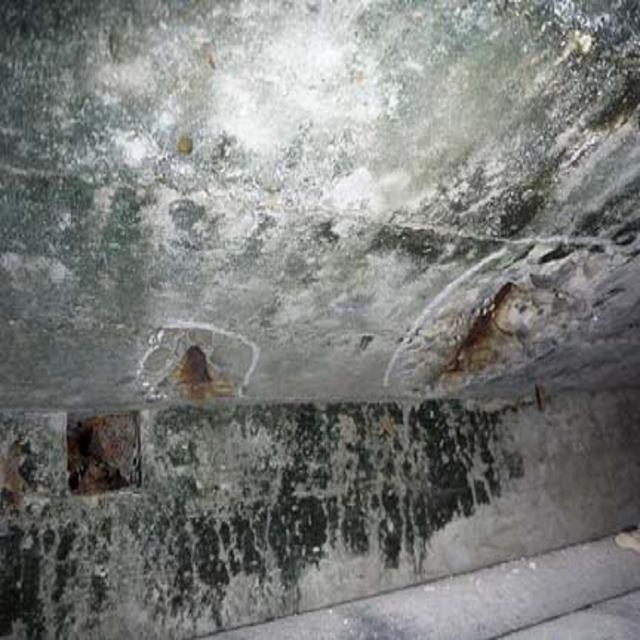spalling: (388, 240, 602, 404), (60, 400, 150, 509), (143, 319, 251, 404)
